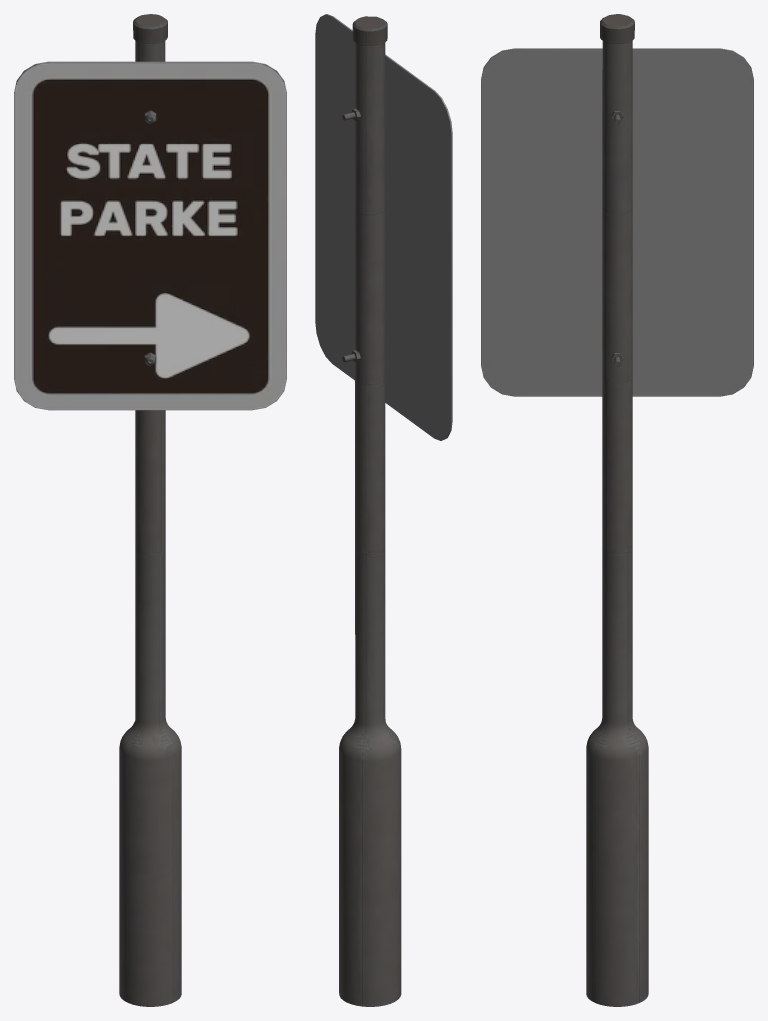
File: sign-highted-rectangular.glb
3 renders of one model, left to right at view 1: azimuth 90°, elevation 25°; view 2: azimuth 210°, elevation 25°; view 3: azimuth 270°, elevation 25°, orthographic.
Visible parts, largest first — view 1: highted rectangular; view 2: highted rectangular; view 3: highted rectangular.
Boxes of the visible parts, left/top/right/bottom form: highted rectangular: left=14, top=14, right=286, bottom=1006; highted rectangular: left=315, top=14, right=452, bottom=1006; highted rectangular: left=481, top=14, right=753, bottom=1006.
Bounding box in the file's own units: 18.29 × 315 × 79.99.
Materials: 1 (1 with a texture image).
